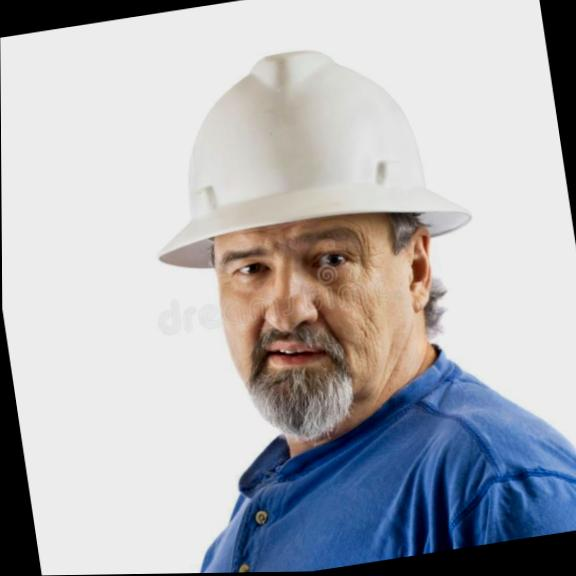no_safety_vest: (138, 324, 576, 574)
